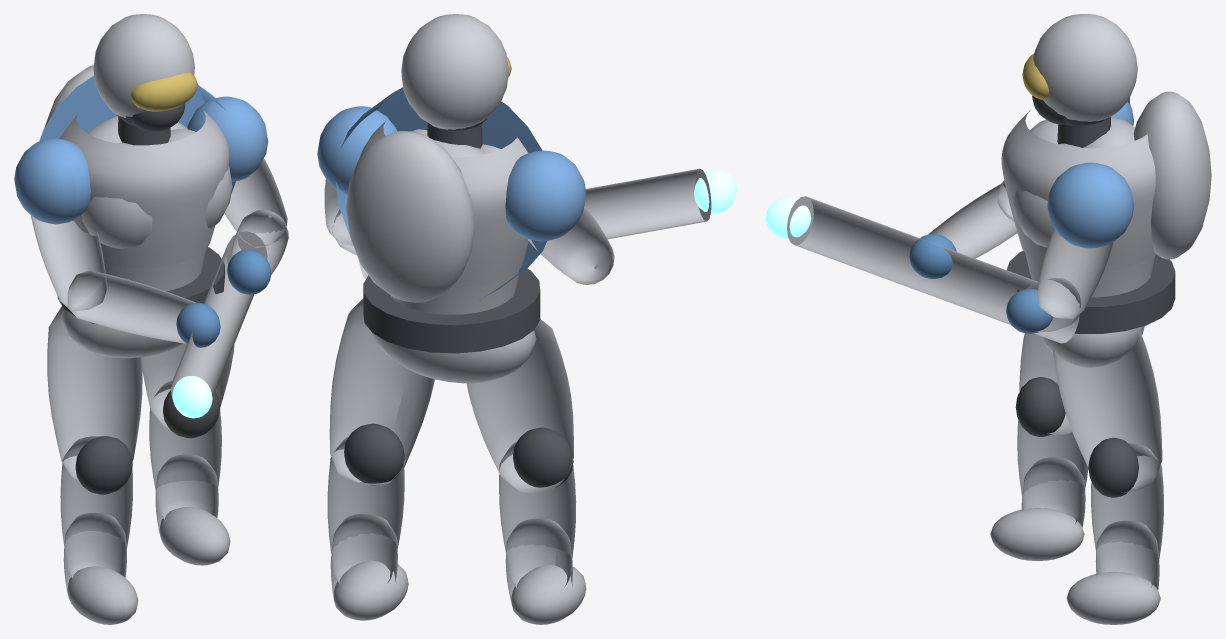
Rendered from cleg.glb.
The picture shows the model from 3 angles, left to right: view 1: azimuth 30°, elevation 25°; view 2: azimuth 150°, elevation 25°; view 3: azimuth 270°, elevation 25°; orthographic projection. The views are drawn at different scales.
Parts seen in each view (by area): view 1: Hull; view 2: Hull; view 3: Hull.
Boxes of the visible parts, x1,y1,x2,y2 form: Hull: (14,14,288,624); Hull: (317,14,736,624); Hull: (765,14,1211,624).
Size of the model in its own units: 0.4343 by 0.939 by 0.6642.
